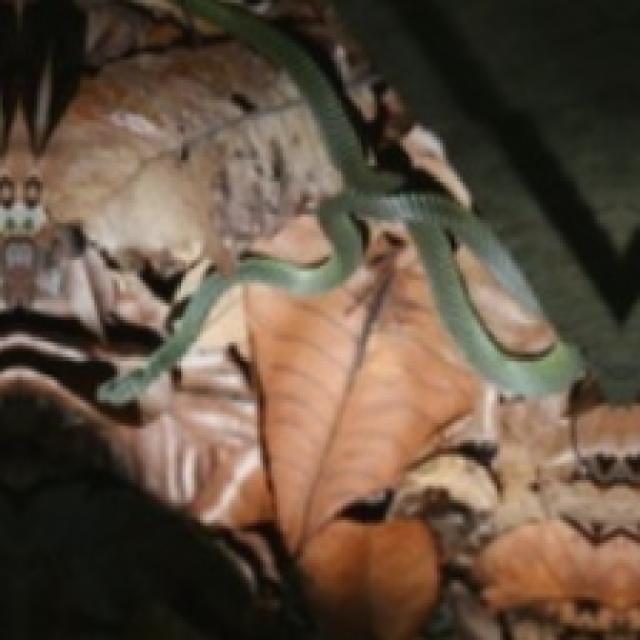paradise tree snake: (0, 0, 580, 403), (209, 74, 343, 266)
